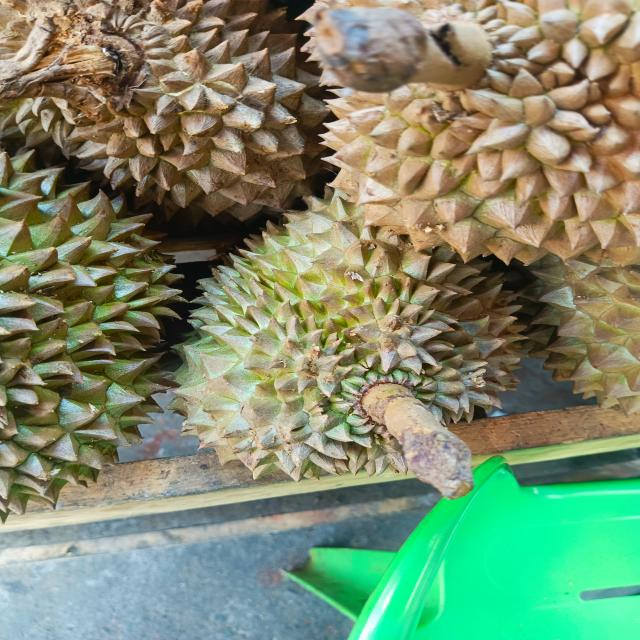mature: (176, 194, 523, 484), (0, 0, 337, 229), (0, 152, 178, 513)
